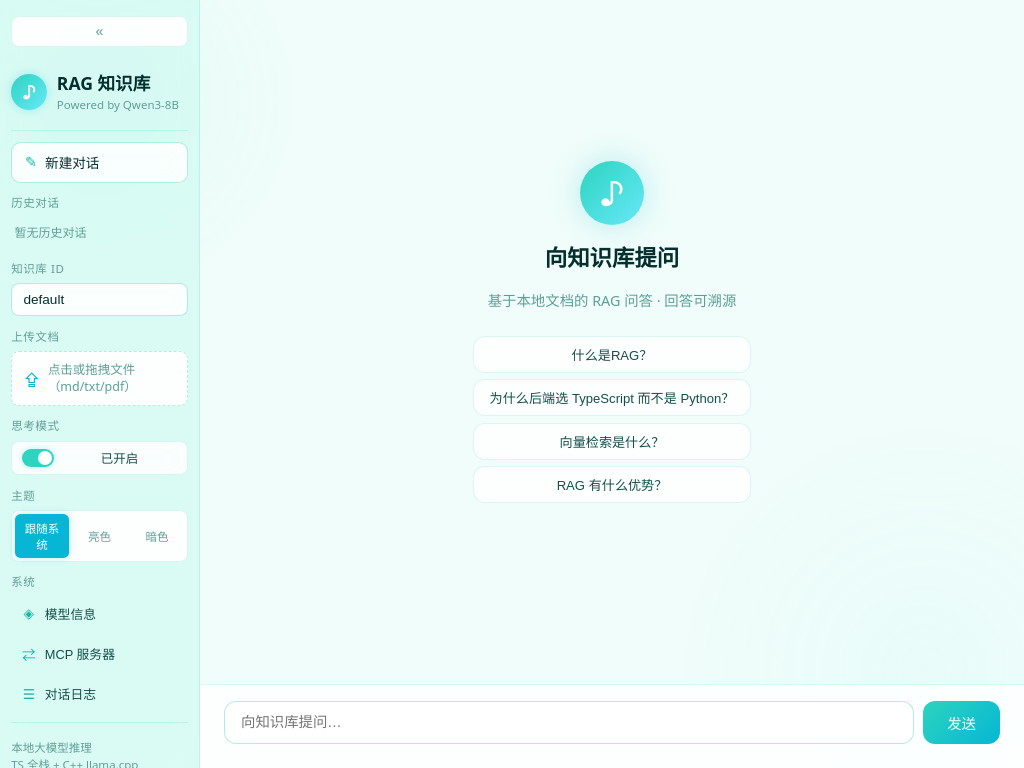
Test: M3 流式问答页 › 逐字渲染回答并展示引用来源
The width and height of the screenshot is (1024, 768).
Type "你好" into the field with placeholder "向知识库提问…" at (569, 722), box left=224, top=701, right=914, bottom=744
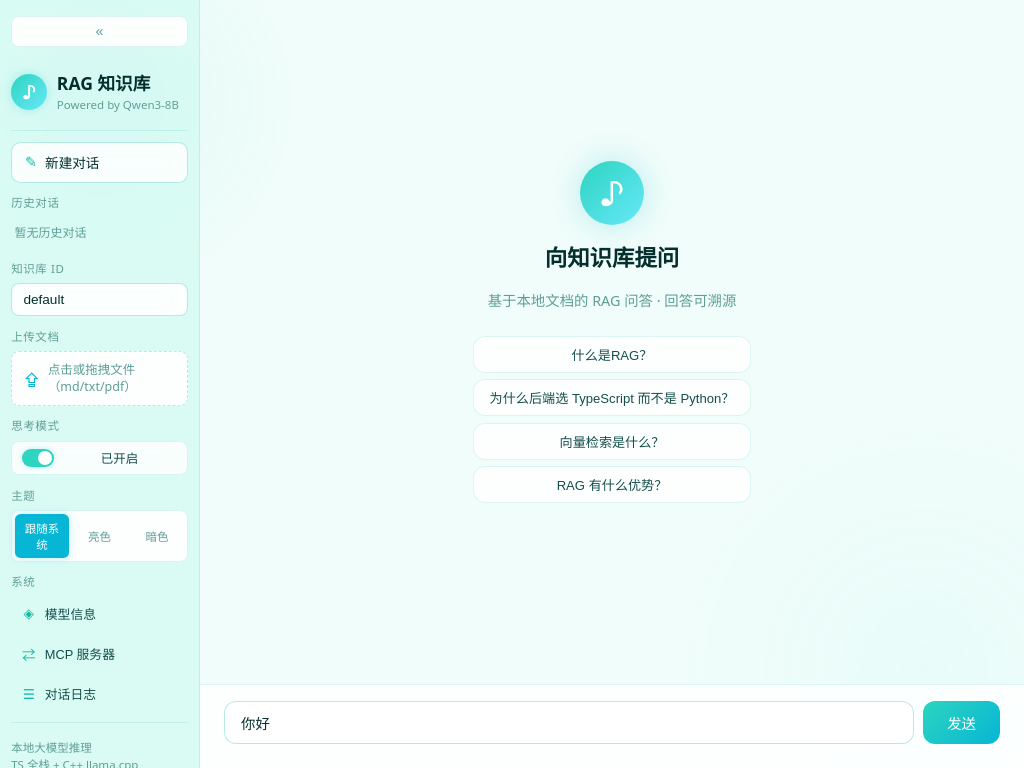
Click the button "发送" at (962, 722), box left=923, top=701, right=1000, bottom=744
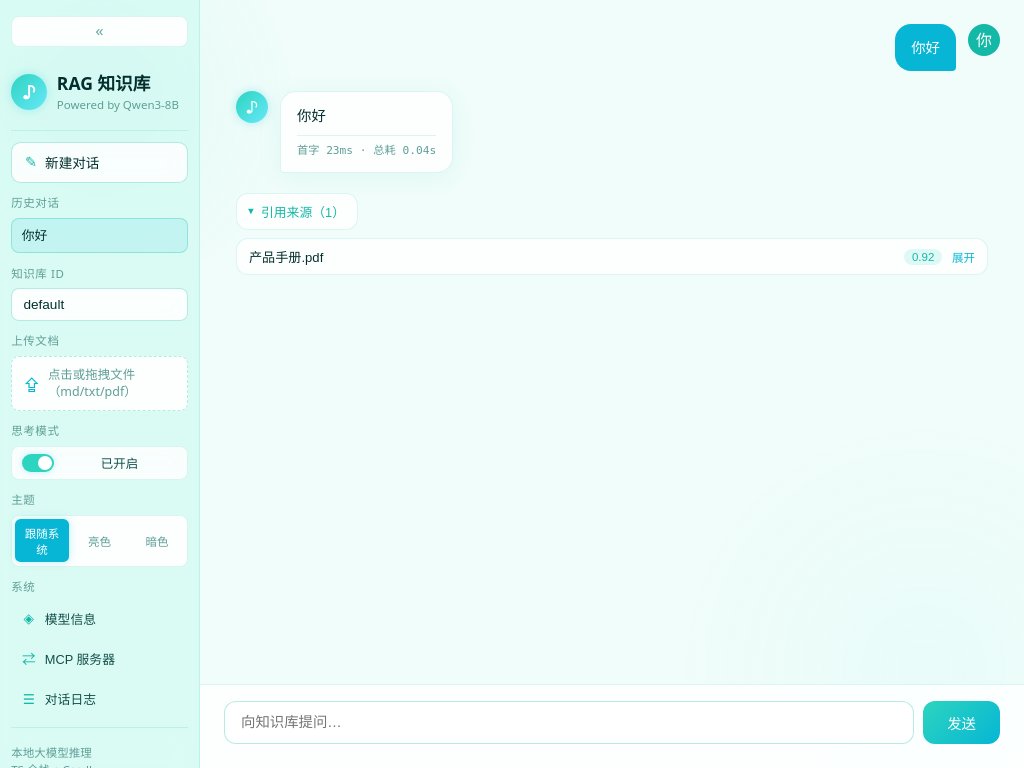
Expected: the text "你好" below "历史对话" is shown, left=22, top=226, right=47, bottom=244
Expected: the text "产品手册.pdf" is shown, left=249, top=250, right=323, bottom=265
Expected: the text "0.92" is shown, left=904, top=248, right=942, bottom=265
